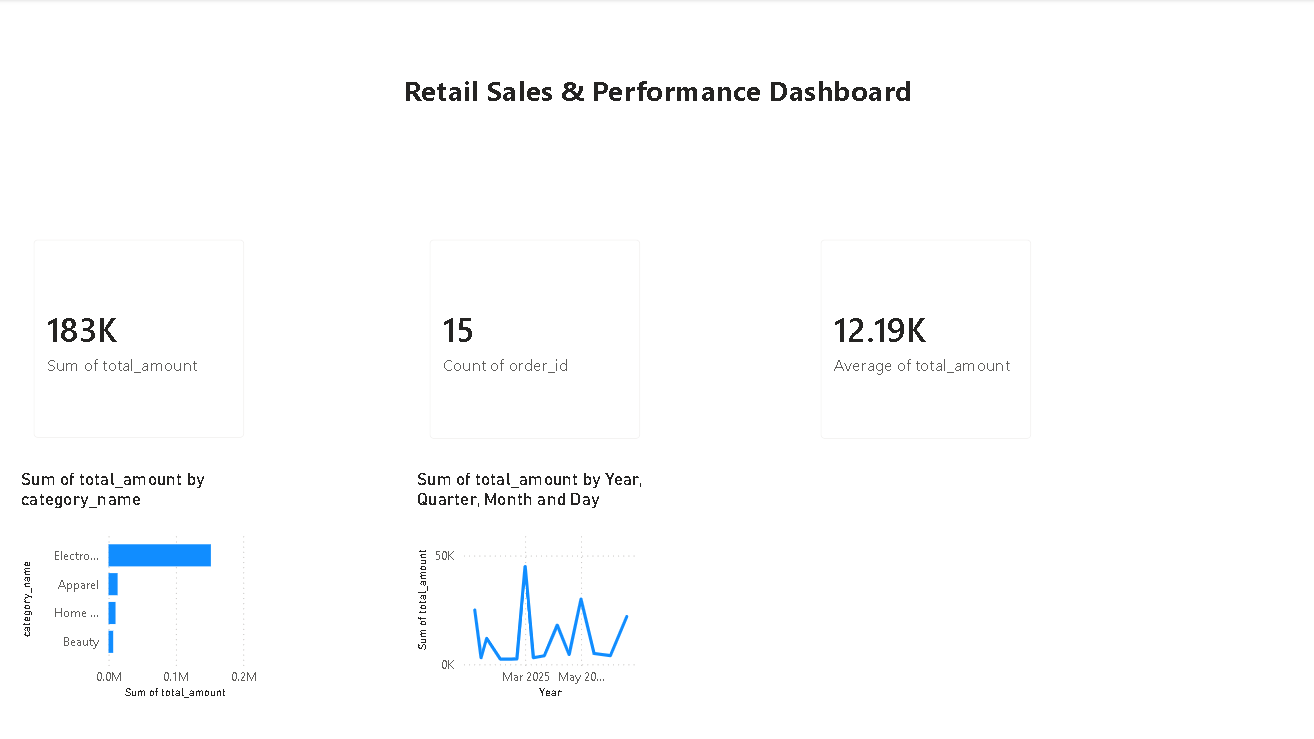

Layout of this report page (visuals, bound fields, positions):
{"tool":"powerbi","page":{"name":"Page 1","canvas":[1280,720],"ordinal":0},"visuals":[{"type":"textbox","box":[379.3,64.2,521.3,152.7],"z":0},{"type":"cardVisual","fields":{"Data":["Sum(retail_sales_data.total_amount)"]},"box":[15.6,216.9,239.3,227.6],"z":1},{"type":"cardVisual","fields":{"Data":["Count(retail_sales_data.order_id)"]},"box":[400.7,216.9,239,228],"z":2},{"type":"cardVisual","fields":{"Data":["Avg(retail_sales_data.total_amount)"]},"box":[781,216.9,239,228],"z":3},{"type":"clusteredBarChart","fields":{"Category":["retail_sales_data.category_name"],"Y":["Sum(retail_sales_data.total_amount)"]},"box":[15.6,457.1,239,228],"z":4},{"type":"lineChart","fields":{"Y":["Sum(retail_sales_data.total_amount)"],"Category":["retail_sales_data.order_date.Variation.Date Hierarchy.Year","retail_sales_data.order_date.Variation.Date Hierarchy.Quarter","retail_sales_data.order_date.Variation.Date Hierarchy.Month","retail_sales_data.order_date.Variation.Date Hierarchy.Day"]},"box":[400.7,457.1,239,228],"z":5}]}

Visuals, with their boxes in screenshot pixels (x1, y1, x2, y2), scaled from the page's 1280x720 canvas onto the 1314x739 screenshot:
textbox: 389, 66, 925, 223
cardVisual - Sum(retail_sales_data.total_amount): 16, 223, 262, 456
cardVisual - Count(retail_sales_data.order_id): 411, 223, 657, 457
cardVisual - Avg(retail_sales_data.total_amount): 802, 223, 1047, 457
clusteredBarChart - retail_sales_data.category_name x Sum(retail_sales_data.total_amount): 16, 469, 261, 703
lineChart - Sum(retail_sales_data.total_amount) x retail_sales_data.order_date.Variation.Date Hierarchy.Year: 411, 469, 657, 703
